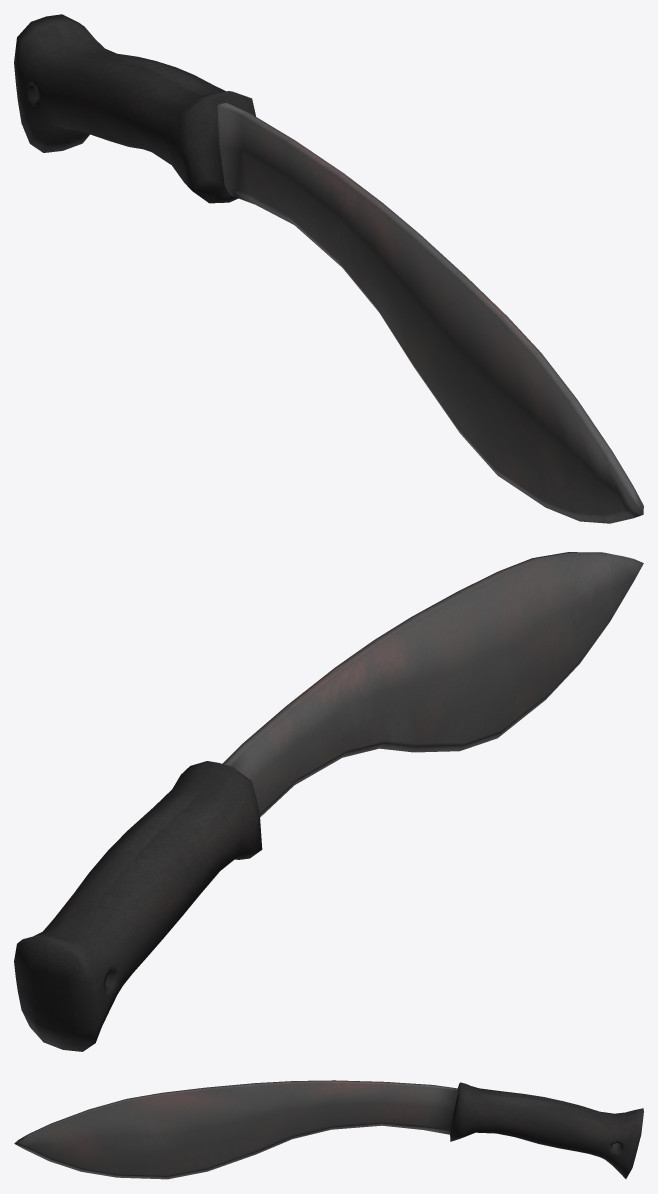
File: knife.obj
3 views of the same model, one above another, from view 1: azimuth 30°, elevation 25°; view 2: azimuth 150°, elevation 25°; view 3: azimuth 270°, elevation 25° (orthographic). The views are drawn at different scales.
Bounding box in the file's own units: 0.3525 × 0.8021 × 4.68.
1 material, 1 textured.
